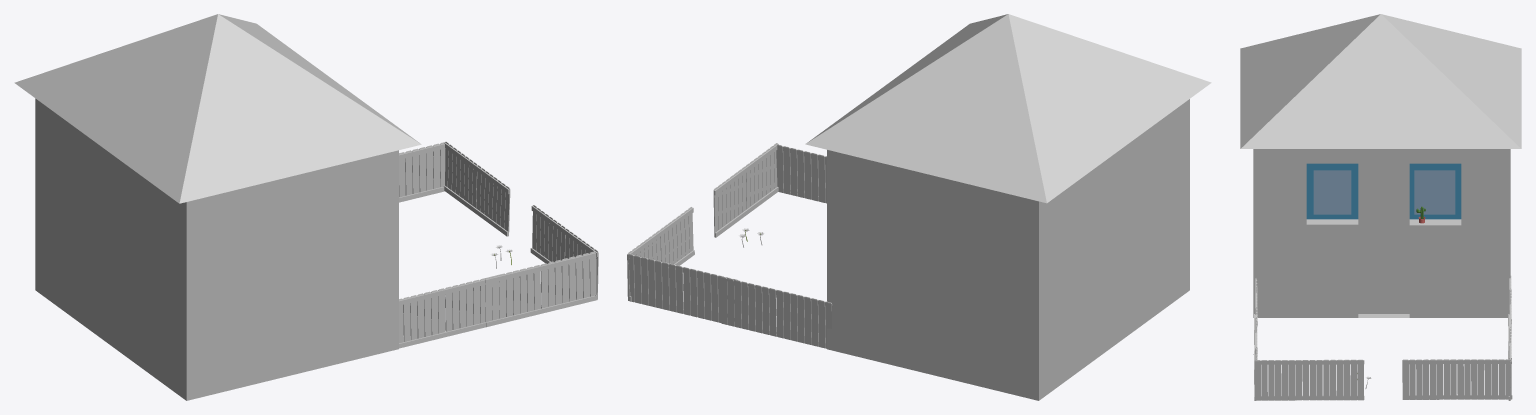
The model's file is haus1mit vorgarten.fbx.
3 renders of one model, left to right at view 1: azimuth 30°, elevation 25°; view 2: azimuth 150°, elevation 25°; view 3: azimuth 270°, elevation 25°, orthographic. The views are drawn at different scales.
Visible parts, largest first — view 1: Cube.006; view 2: Cube.006; view 3: Cube.006.
Boxes of the visible parts, x1=… form: Cube.006: x1=14, y1=14, x2=598, y2=400; Cube.006: x1=627, y1=14, x2=1211, y2=400; Cube.006: x1=1240, y1=14, x2=1521, y2=400.
Bounding box in the file's own units: 1174 × 1754 × 1204.
